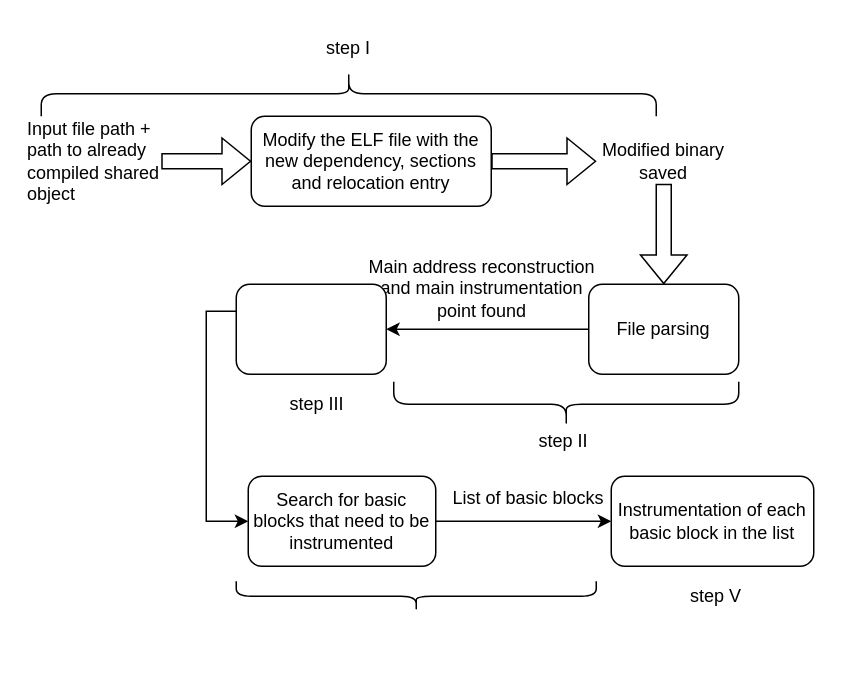
The diagram is 852 pixels wide and 689 high, and some of its shapes have lost their labels. The shapes that lost their labels are listed below. From the top down, each one's centre as x and y in pixels, then its label:
At pixel 310 328: "Initial instrumentation".
At pixel 415 595: "step IV".
